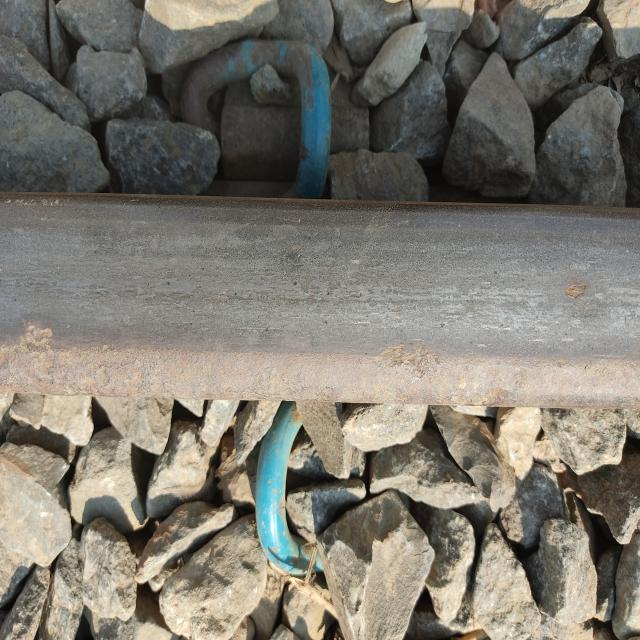Good Fasteners: (166, 31, 389, 209), (256, 401, 317, 581)
